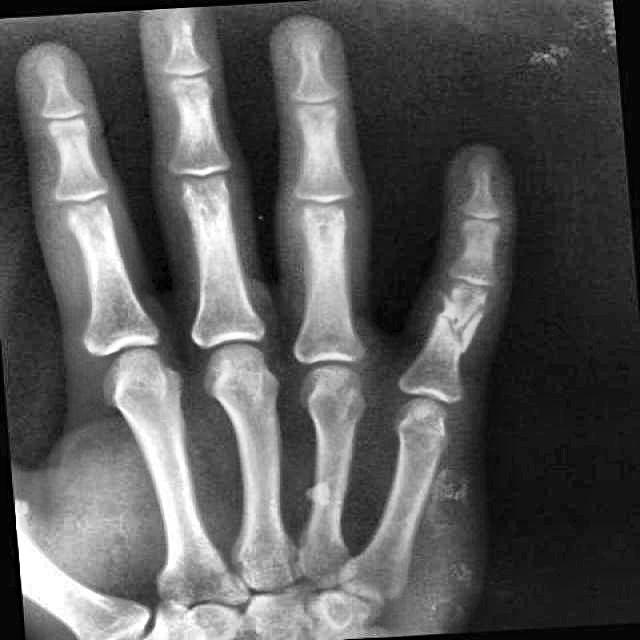Comminuted: (417, 281, 499, 364)
